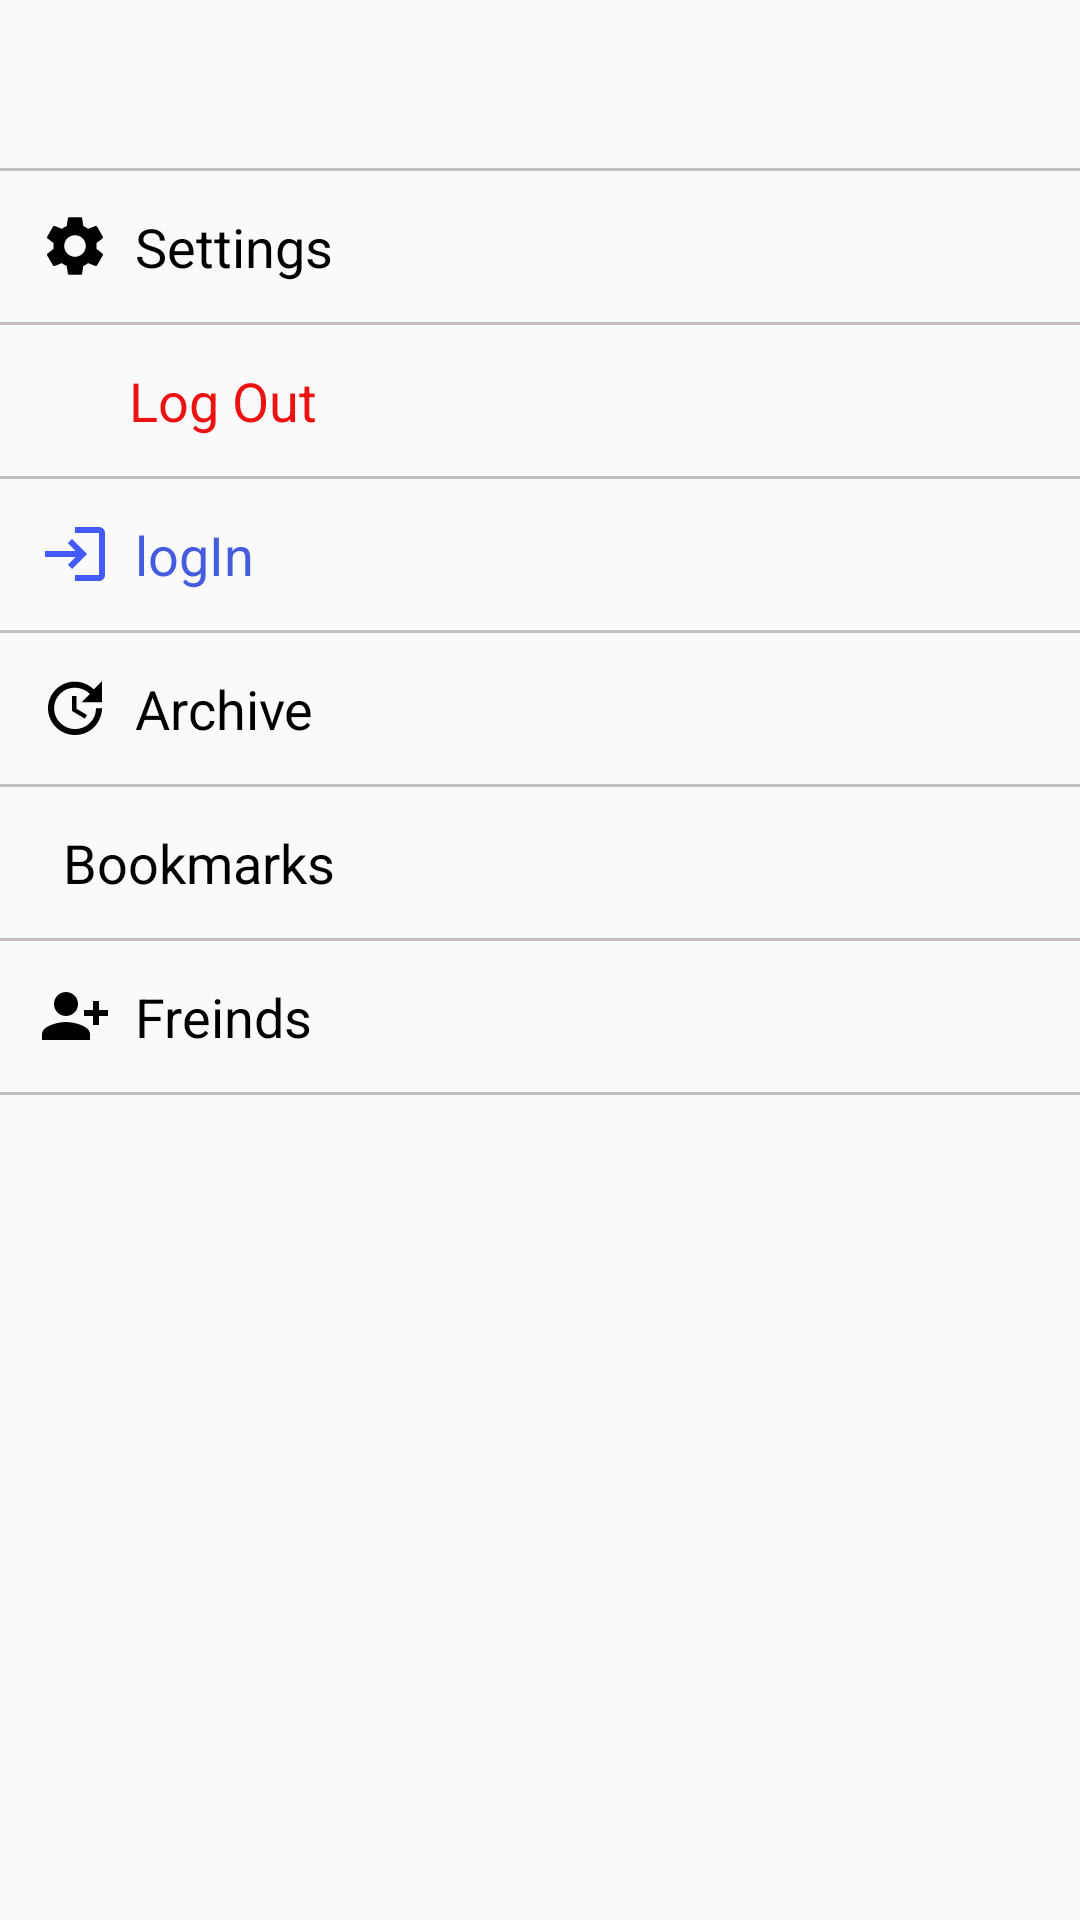

Screen size 1080 x 1920. Icon name, then its center in pixels as point (x, y):
person add: point (75, 1016)
update: point (75, 708)
